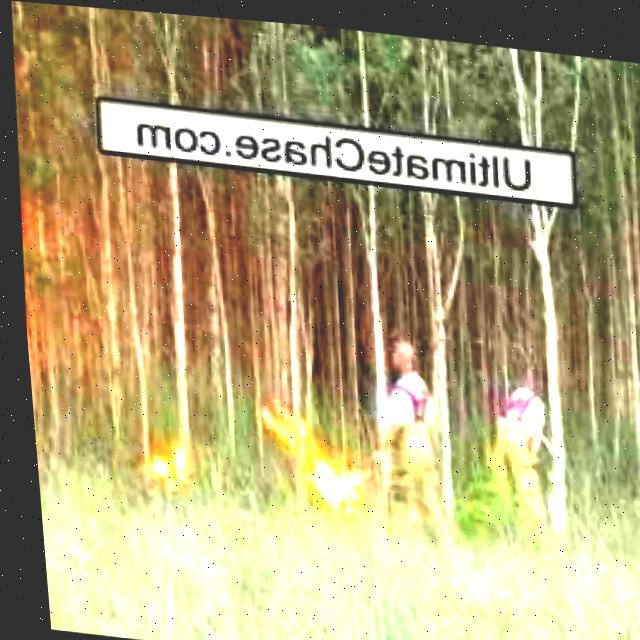Fire: (230, 369, 372, 515), (121, 424, 198, 495)
